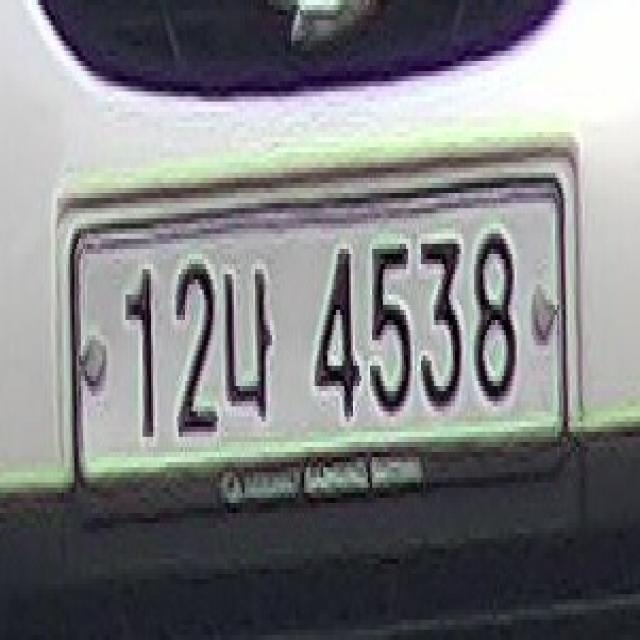1: (121, 259, 166, 452)
2: (172, 249, 219, 447)
3: (412, 228, 468, 416)
4: (308, 234, 366, 447)
5: (366, 234, 414, 422)
8: (470, 228, 523, 412)
license_plate: (66, 152, 576, 528)
na: (219, 249, 281, 432)
